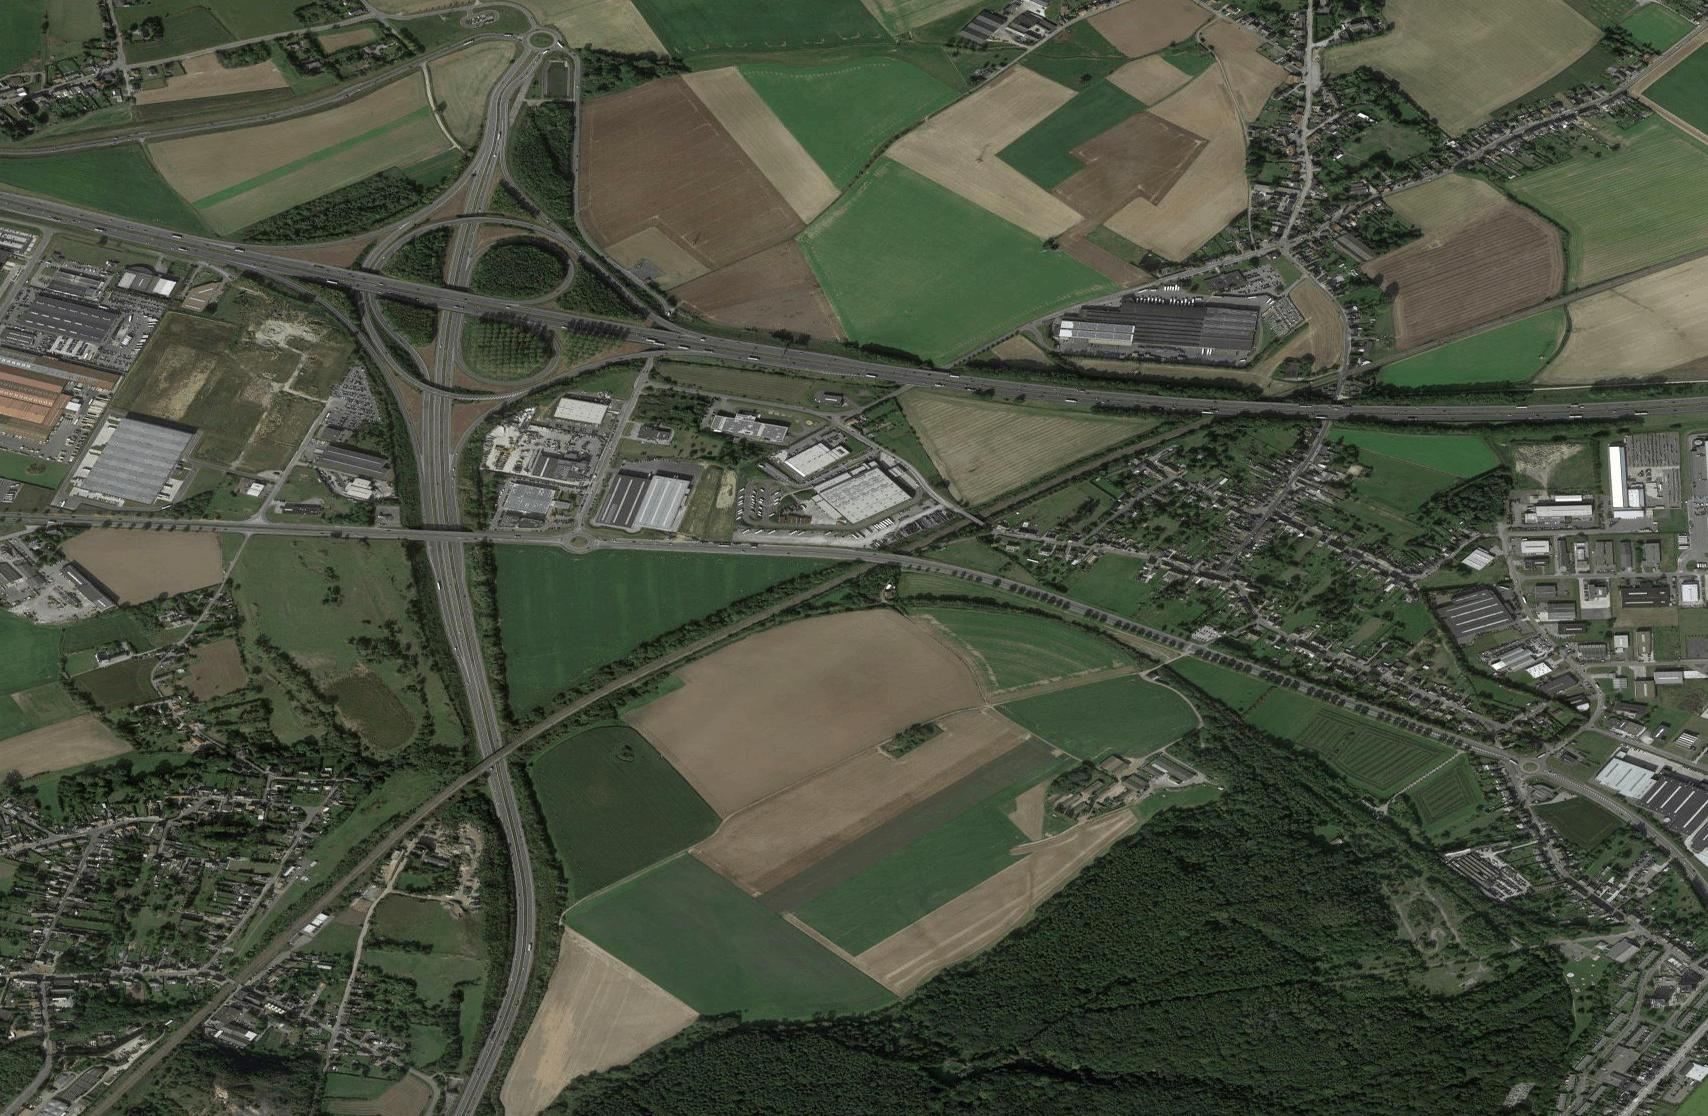industrial: (1459, 431, 1707, 707), (499, 394, 904, 553), (1, 254, 195, 509)
motorway: (451, 922, 548, 1116), (386, 277, 642, 348), (645, 321, 901, 391), (137, 223, 393, 293), (433, 115, 514, 320), (901, 364, 1168, 416), (477, 722, 547, 920), (418, 522, 487, 721), (1168, 386, 1437, 433), (1438, 382, 1707, 428), (415, 314, 466, 523), (1, 177, 136, 240)
